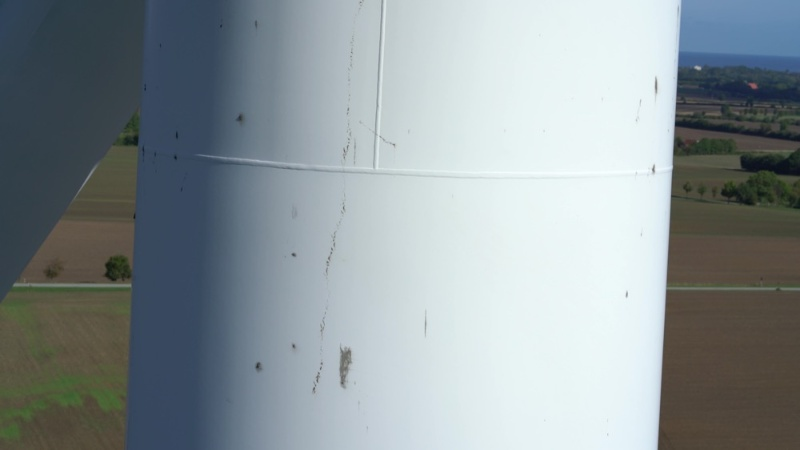weldseam: (136, 137, 675, 185), (370, 1, 384, 181)
